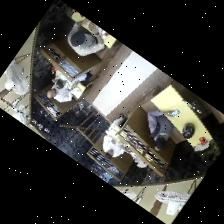person: (68, 18, 104, 55), (148, 109, 174, 150), (103, 113, 124, 158), (48, 79, 72, 101), (73, 72, 92, 86)
